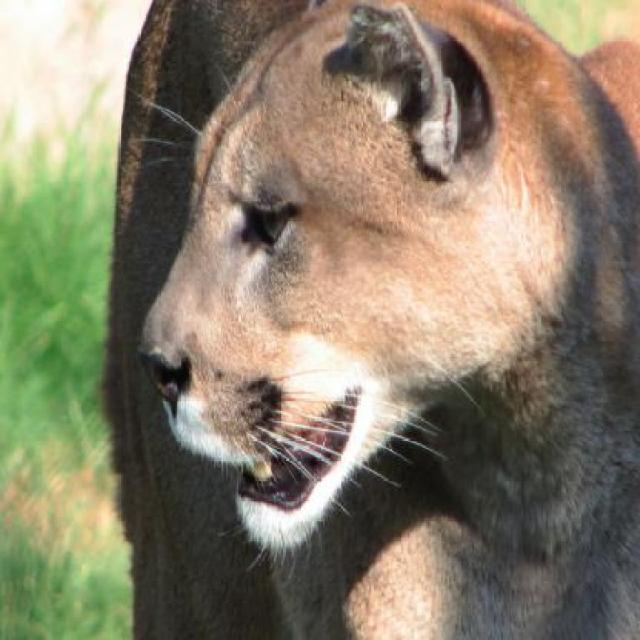Lion: (64, 0, 638, 638)
